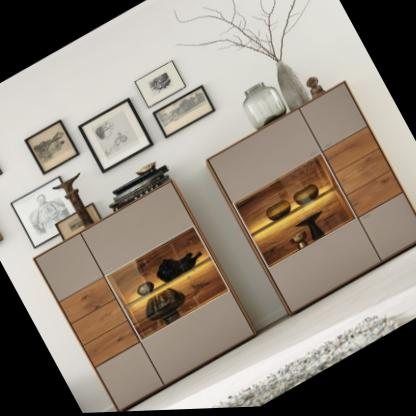Cupboard: (34, 178, 257, 413), (206, 84, 416, 319)
